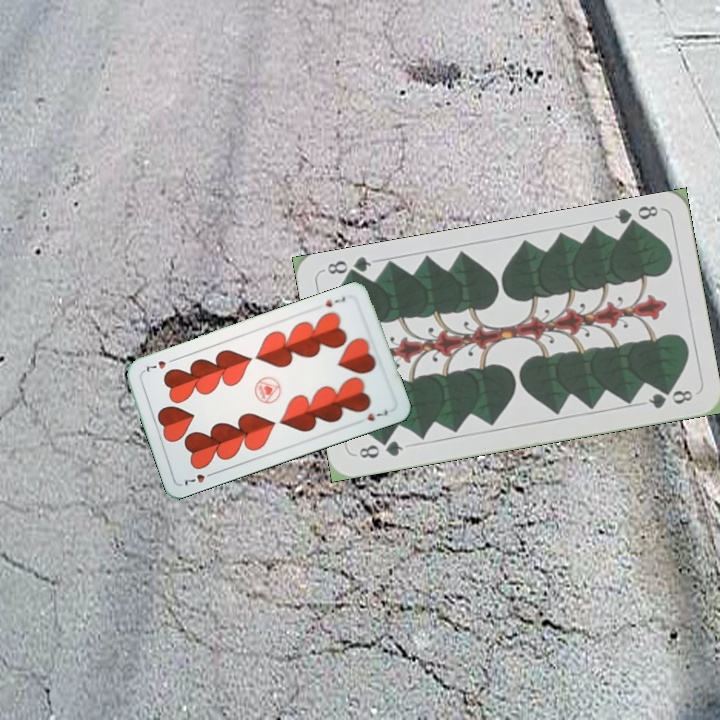G8: (610, 201, 661, 233), (354, 436, 406, 461)
H7: (179, 467, 218, 488), (322, 292, 348, 310)
